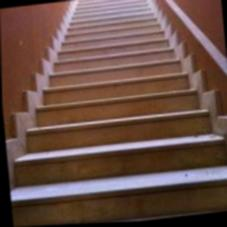Bench: (10, 77, 222, 187)
